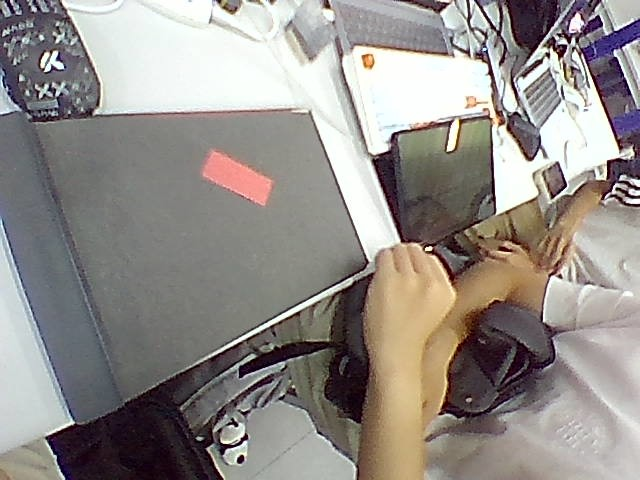card: (202, 150, 272, 204)
